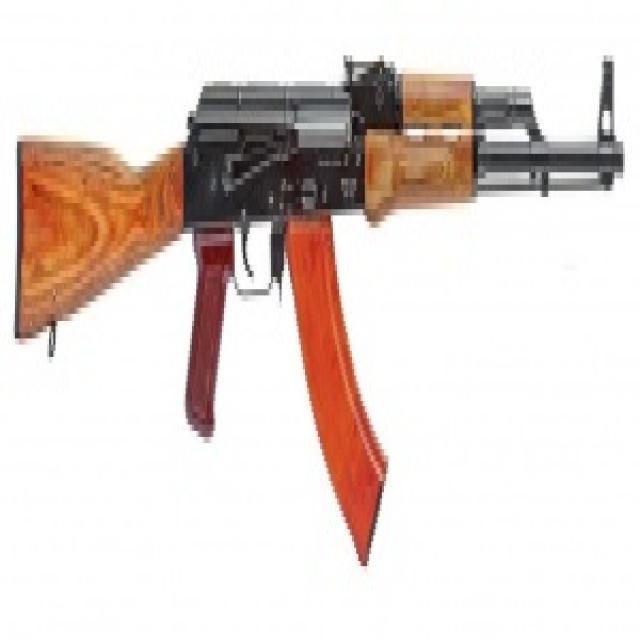rifle: (6, 24, 628, 596)
